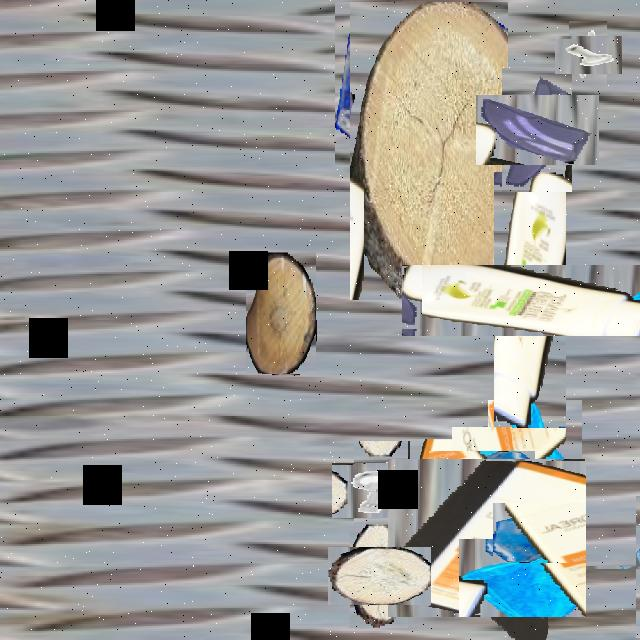glass: (488, 400, 582, 567), (335, 2, 427, 165), (488, 81, 586, 179), (441, 438, 524, 522), (601, 530, 640, 603)
metal: (343, 452, 421, 529), (407, 166, 465, 268), (562, 29, 614, 81)
plastic: (398, 449, 576, 628), (448, 218, 612, 382)
wood: (350, 2, 508, 300), (246, 252, 316, 374), (338, 536, 419, 616)
